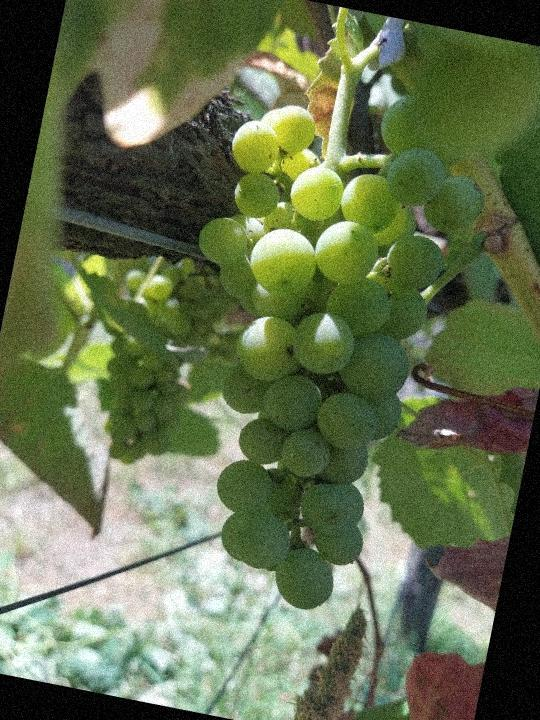grape: (128, 88, 501, 631)
